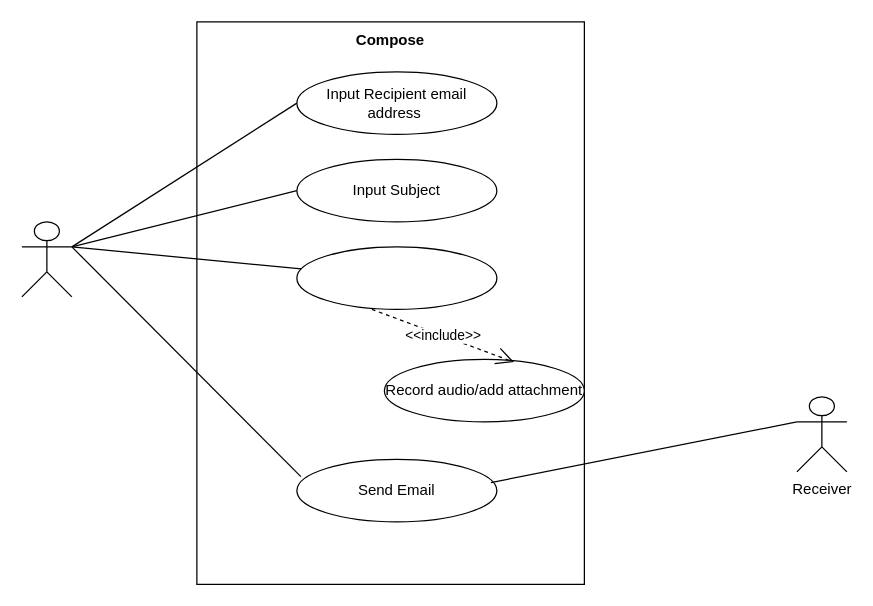
This 873x606 diagram has some shape labels left out. The centre of each missing label's shape, as x and y in pixels:
"Input Body" belongs at (x=396, y=277).
"User/ Sender" belongs at (x=46, y=259).
